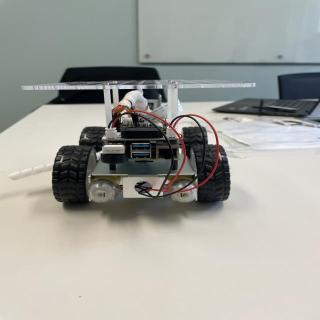vehicle: (24, 81, 254, 213)
